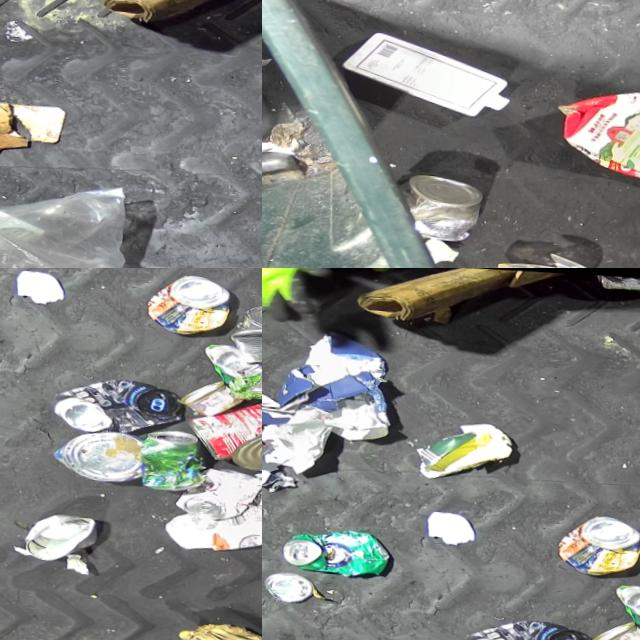can: (51, 368, 181, 433), (397, 165, 482, 236), (279, 522, 389, 576), (186, 383, 262, 459), (555, 505, 640, 571), (171, 455, 262, 514), (144, 268, 230, 330), (51, 421, 141, 480), (137, 419, 205, 484), (21, 506, 99, 560), (462, 608, 591, 640), (203, 334, 262, 392), (178, 369, 242, 411), (228, 291, 262, 361), (229, 408, 262, 468), (262, 568, 313, 602), (589, 609, 640, 640), (614, 575, 640, 633), (595, 268, 640, 287)
non_white_jug: (551, 76, 640, 182)
